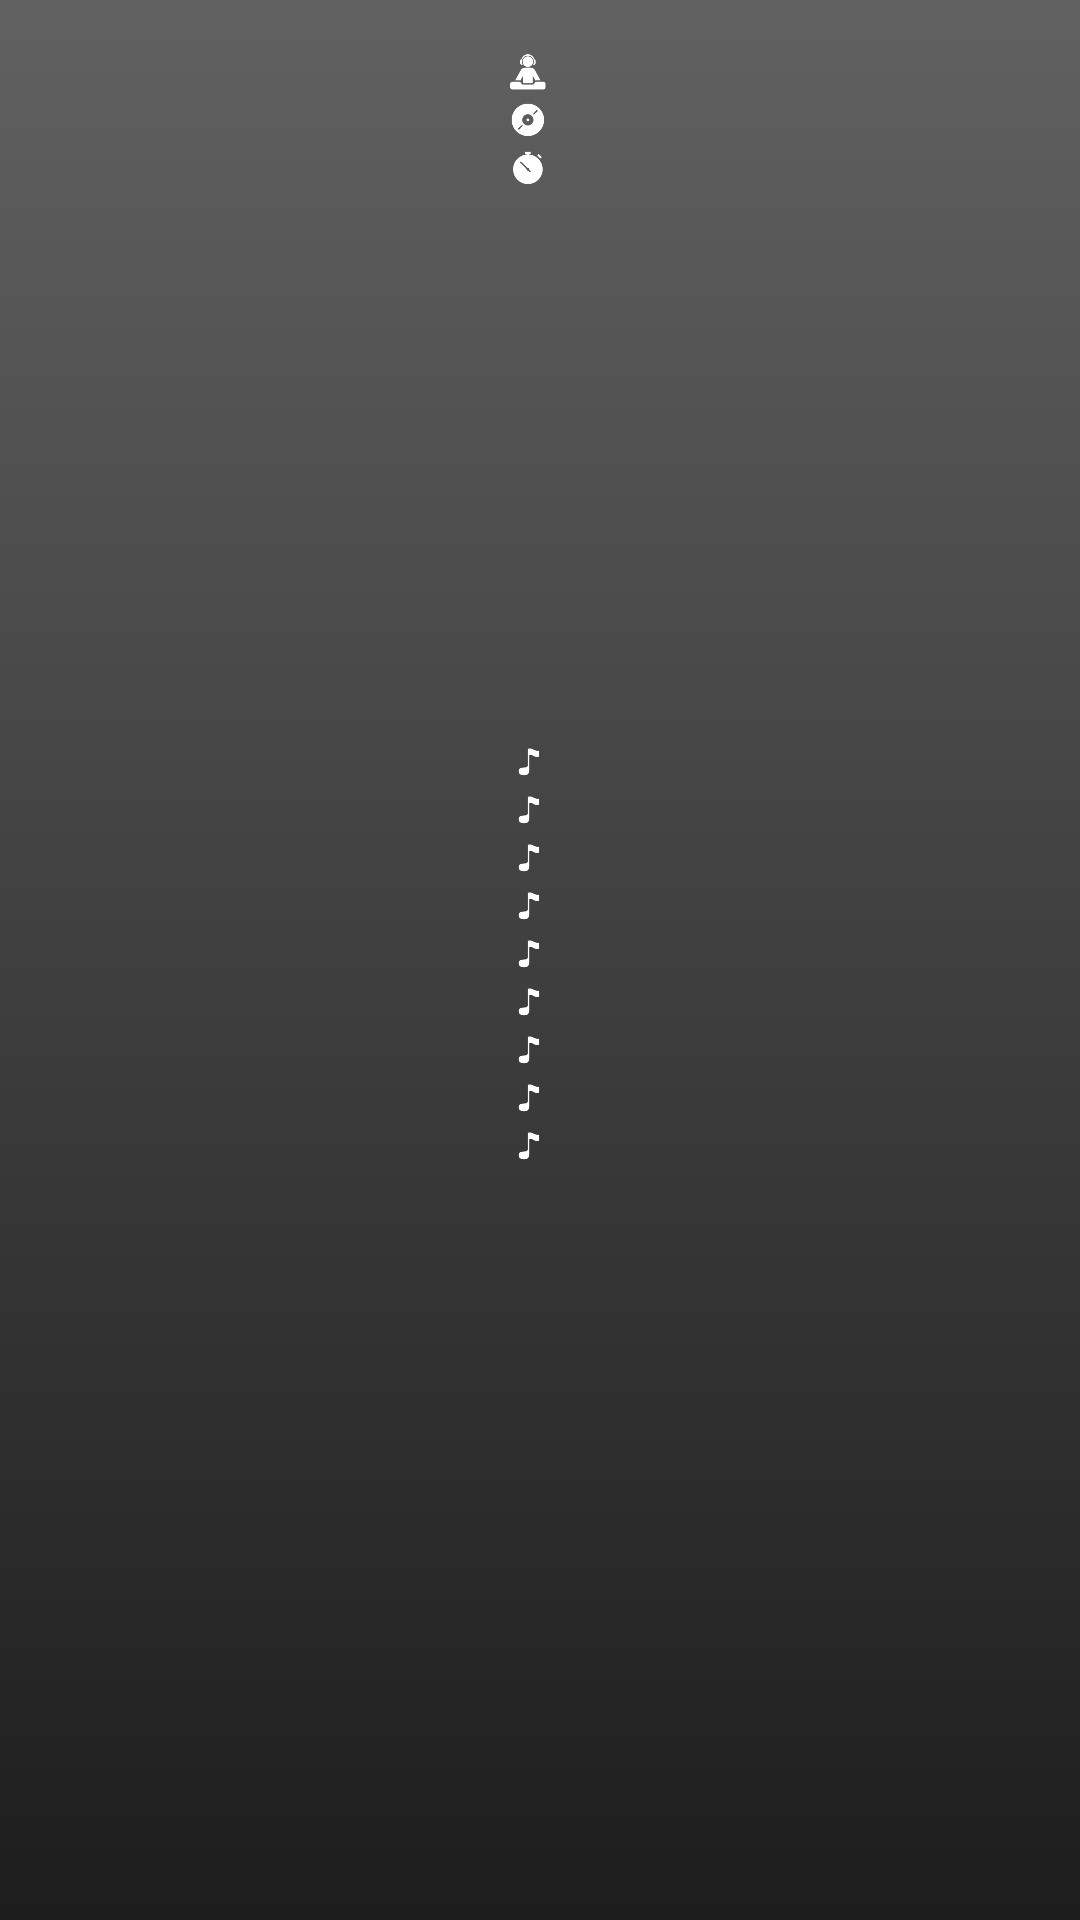

Icons on this 1080*1920 Android screen, each with its box as (x1,y1,x2,y2):
album: (512,104,544,136)
artist: (510,54,546,90)
duration: (513,152,543,184)
